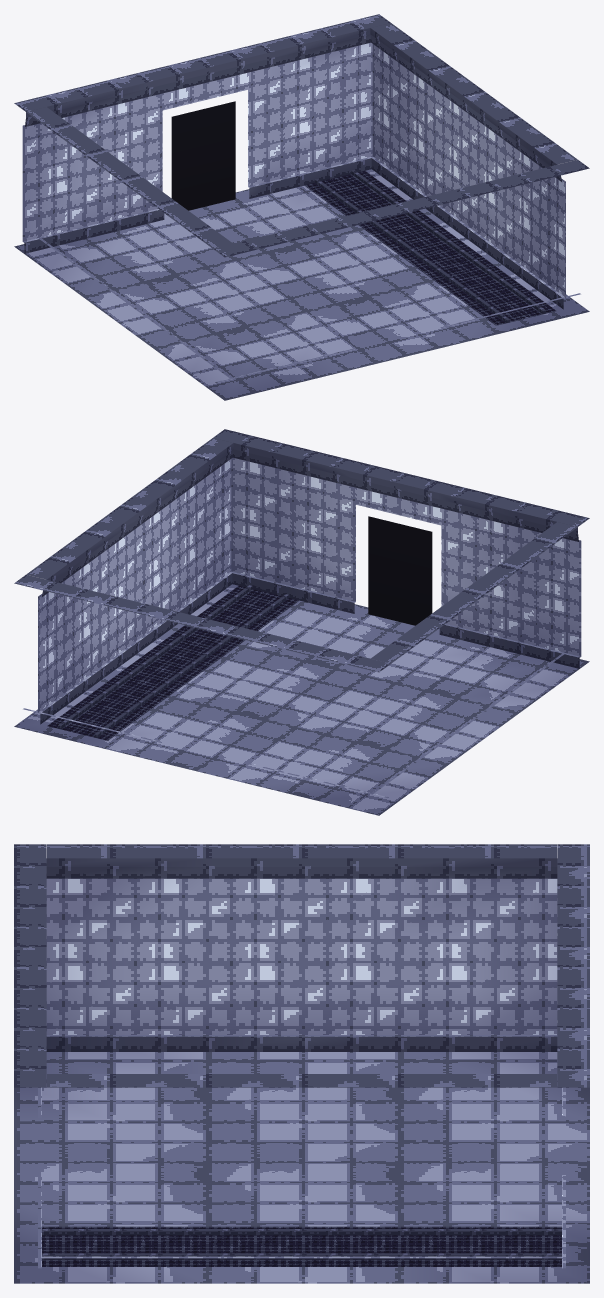
Rendered from cyroom.subway.glb.
3 renders of one model, top to bottom at view 1: azimuth 30°, elevation 25°; view 2: azimuth 150°, elevation 25°; view 3: azimuth 270°, elevation 25°, orthographic. The views are drawn at different scales.
Parts seen in each view (by area): view 1: kit_shell_walls, kit_shell_floor, kit_card_lights, kit_trim; view 2: kit_shell_walls, kit_shell_floor, kit_card_lights, kit_trim; view 3: kit_shell_walls, kit_shell_floor, kit_trim.
Boxes of the visible parts, x1,y1,x2,y2 form: kit_shell_walls: (14,14,589,383); kit_shell_floor: (14,169,589,400); kit_card_lights: (171,101,235,210); kit_trim: (314,170,545,322); kit_shell_walls: (14,429,589,798); kit_shell_floor: (14,584,589,815); kit_card_lights: (368,516,432,625); kit_trim: (58,585,289,737); kit_shell_walls: (14,844,589,1268); kit_shell_floor: (14,1052,589,1283); kit_trim: (42,1229,561,1259).
Bounding box in the file's own units: 12 × 4.5 × 12.
8 materials, 8 textured.
